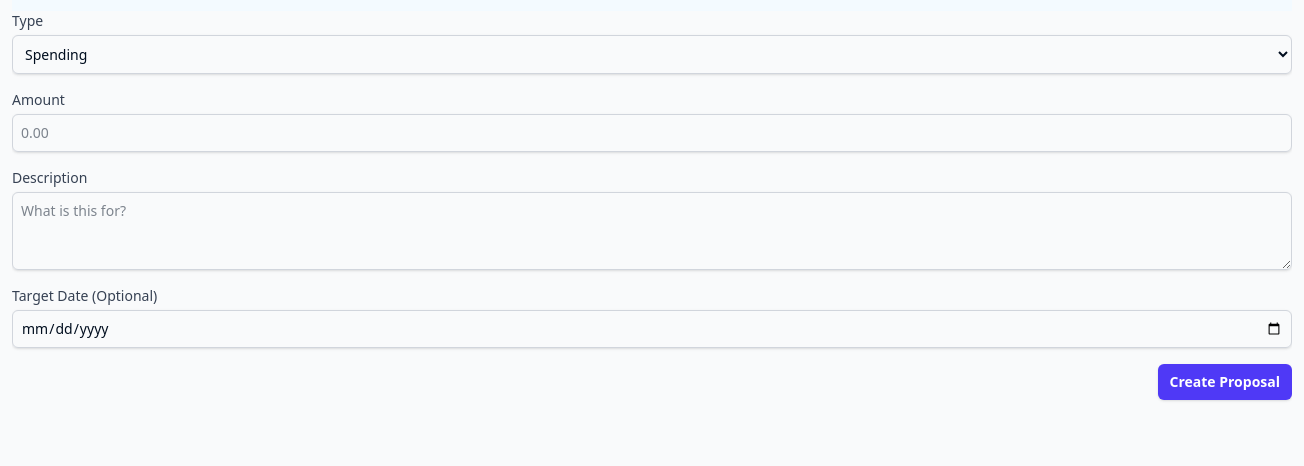
it: ProposalForm › validates required fields
Click the button "Create Proposal" at (1225, 382), box [1158, 364, 1292, 400]
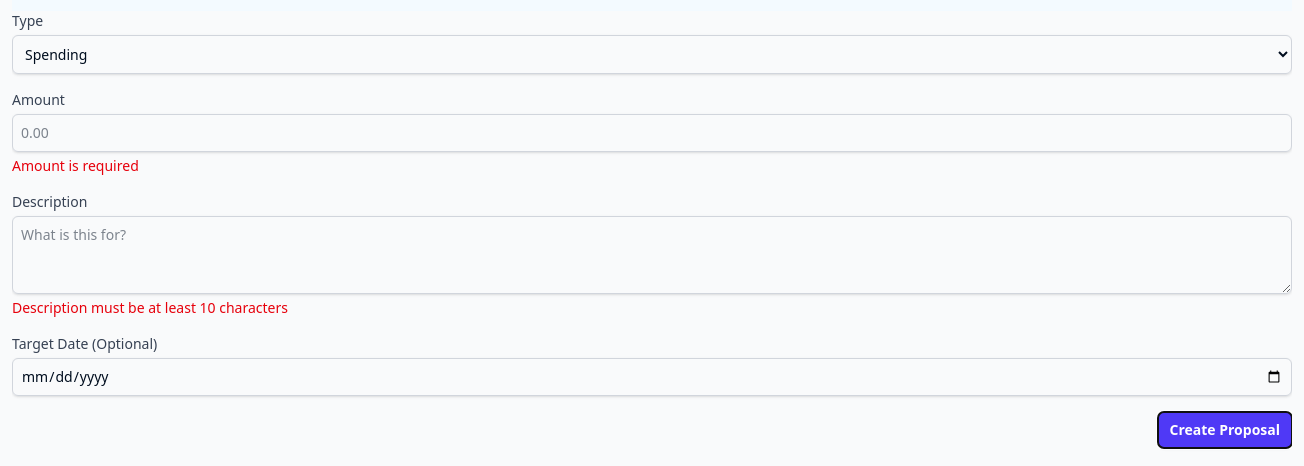
Check: the text "Amount is required" is shown, box [12, 156, 139, 175]
Check: the text "Description must be at least 10 characters" is shown, box [12, 298, 288, 317]
